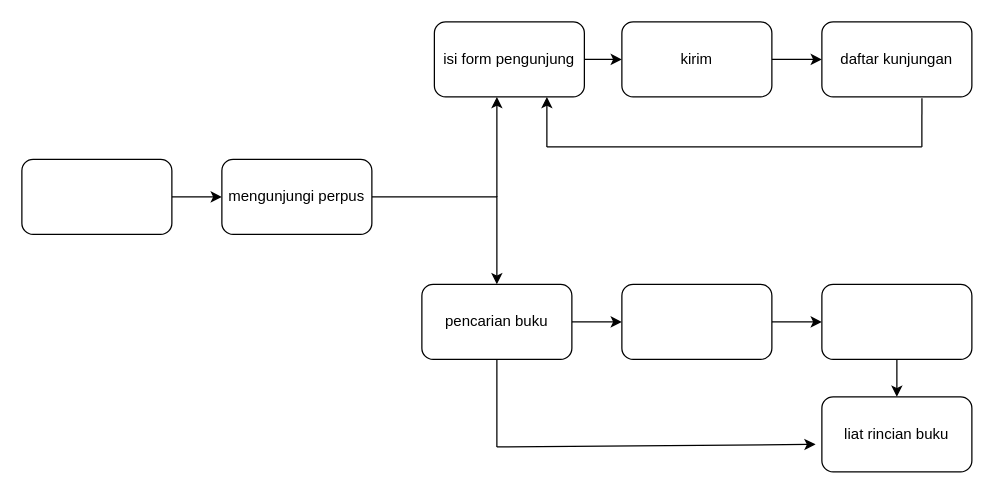
This 994x494 diagram has some shape labels left out. Here are the shapes that lost their labels. From the top down, the centre of each, then its label:
the point at 96,196: user
the point at 696,321: masukan kata kunci judul
the point at 896,321: hasil pencarian
